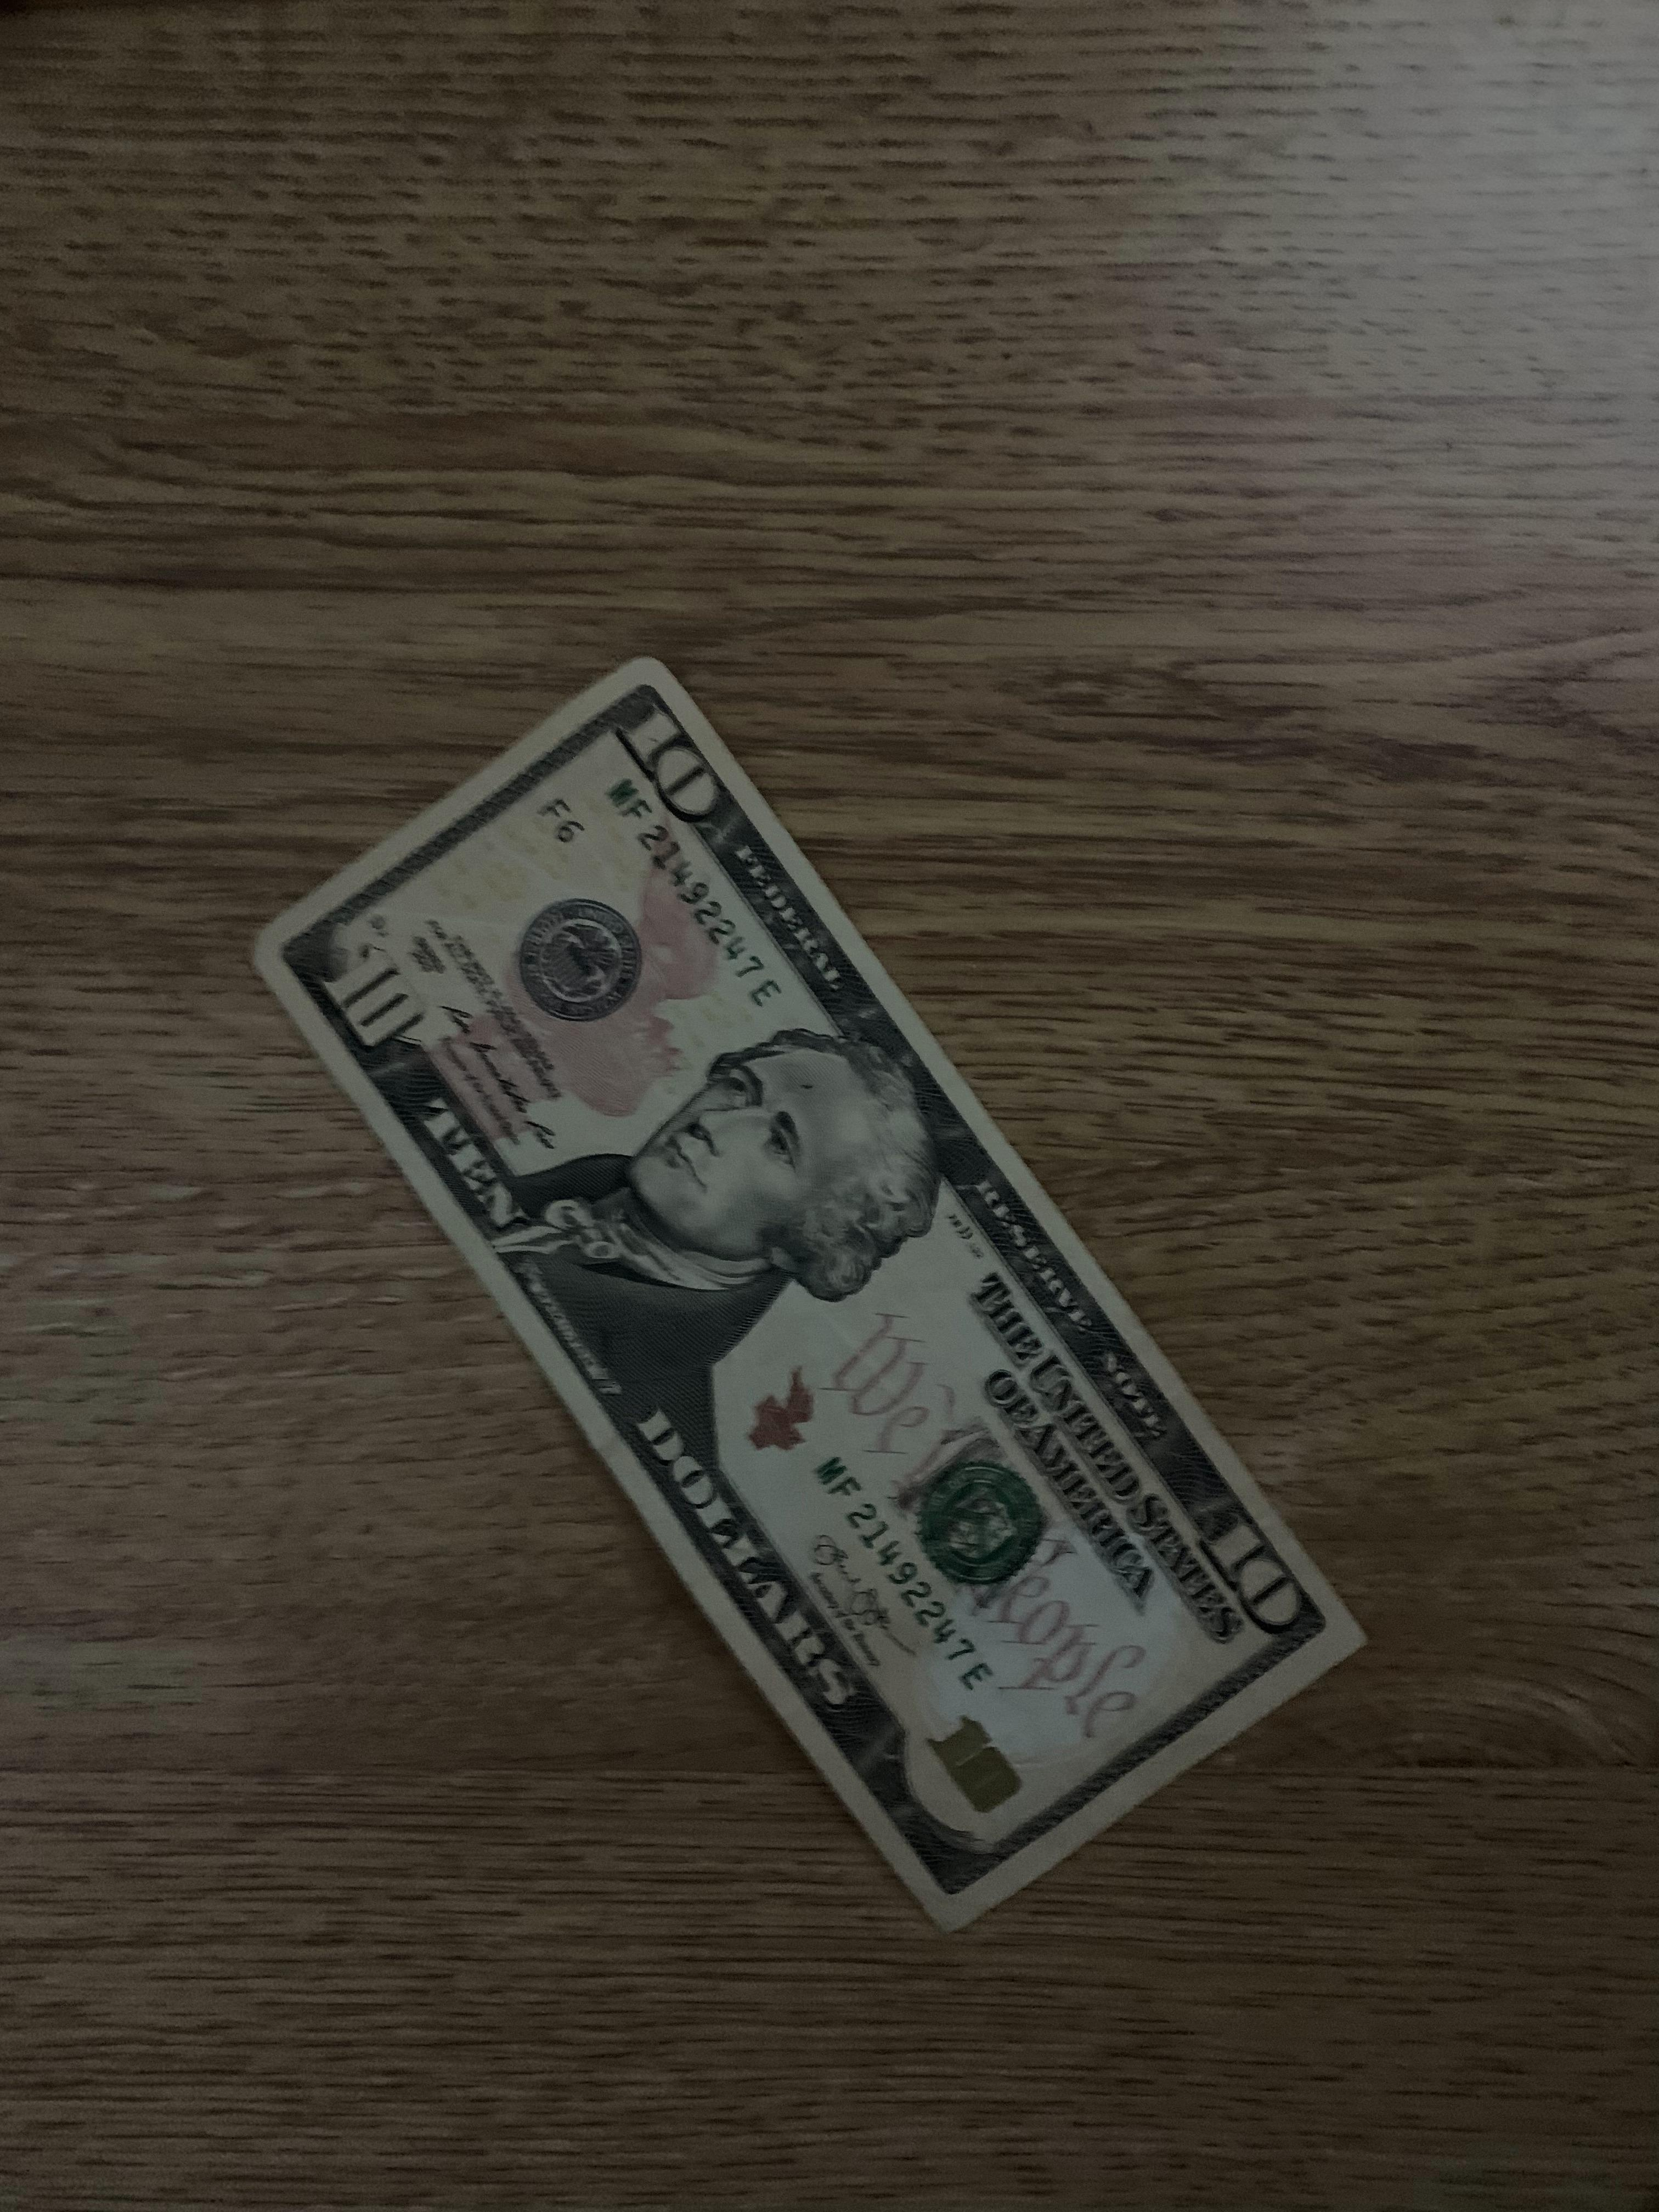TenBill: (242, 641, 1370, 1940)
